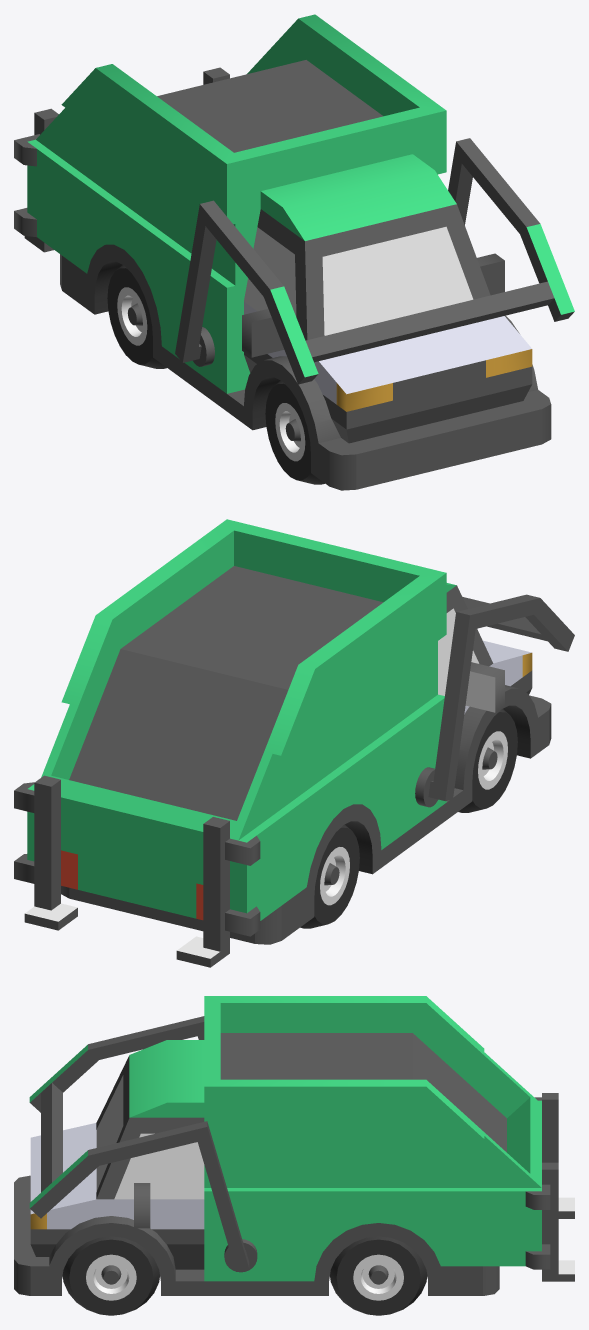
The model's file is garbageTruck.obj.
The picture shows the model from 3 angles, top to bottom: view 1: azimuth 30°, elevation 25°; view 2: azimuth 150°, elevation 25°; view 3: azimuth 270°, elevation 25°; orthographic projection. The views are drawn at different scales.
Visible parts, largest first — view 1: body, arm, wheel_frontRight, wheel_backRight; view 2: body, arm, wheel_backRight, wheel_frontRight; view 3: body, arm, wheel_backLeft, wheel_frontLeft.
Boxes of the visible parts, bbox=[...] form: body: bbox=[14, 14, 551, 490]; arm: bbox=[175, 138, 574, 384]; wheel_frontRight: bbox=[265, 380, 324, 484]; wheel_backRight: bbox=[107, 265, 166, 368]; body: bbox=[14, 519, 551, 967]; arm: bbox=[415, 594, 574, 807]; wheel_backRight: bbox=[300, 824, 359, 928]; wheel_frontRight: bbox=[458, 709, 517, 812]; body: bbox=[14, 996, 574, 1295]; arm: bbox=[29, 1016, 257, 1272]; wheel_backLeft: bbox=[330, 1236, 427, 1315]; wheel_frontLeft: bbox=[62, 1236, 159, 1315].
Bounding box in the file's own units: 1.6 × 1.6 × 3.4.
